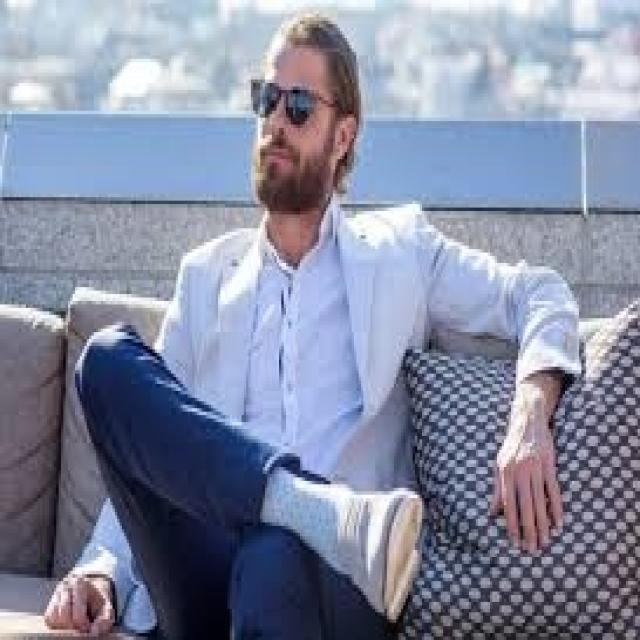sit: (76, 0, 445, 640)
